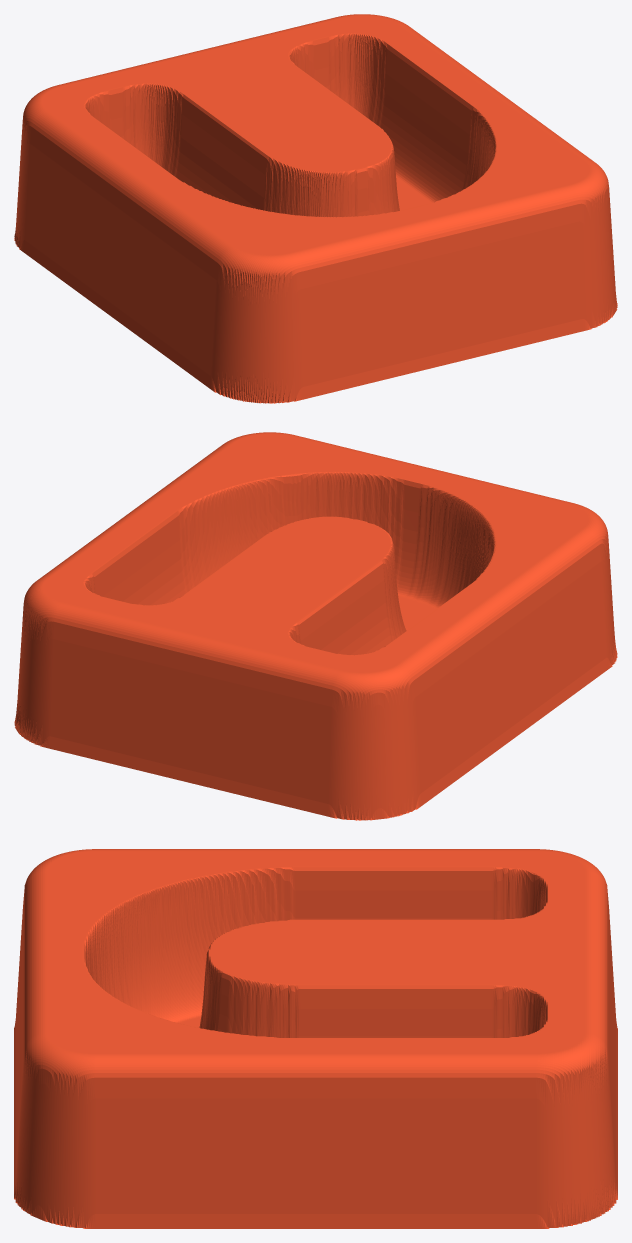
Rendered from mold.glb.
3 renders of one model, top to bottom at view 1: azimuth 30°, elevation 25°; view 2: azimuth 150°, elevation 25°; view 3: azimuth 270°, elevation 25°, orthographic. The views are drawn at different scales.
Visible parts, largest first — view 1: geometry_0; view 2: geometry_0; view 3: geometry_0.
Boxes of the visible parts, x1,y1,x2,y2 form: geometry_0: (14, 14, 617, 403); geometry_0: (14, 432, 617, 820); geometry_0: (14, 849, 617, 1228).
Size of the model in its own units: 0.0604 by 0.0197 by 0.067.
